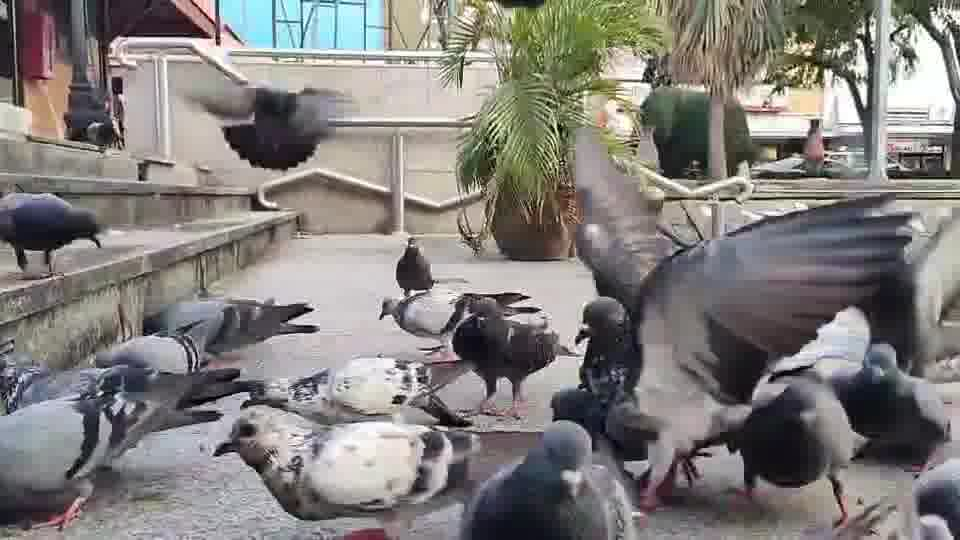Pigeon: (569, 120, 956, 513), (212, 403, 453, 521), (736, 369, 871, 528), (467, 419, 638, 539), (238, 353, 473, 428), (448, 307, 579, 419), (142, 293, 320, 355), (0, 190, 108, 275), (910, 456, 959, 539), (394, 236, 438, 296)
